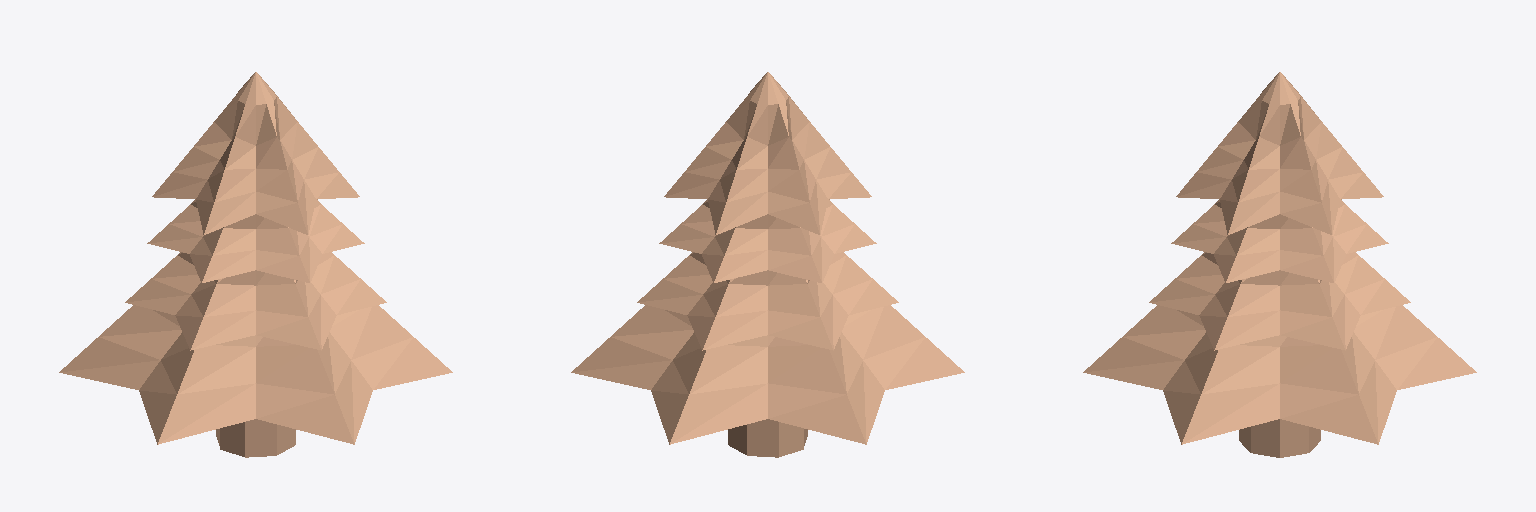
File: pineTree.obj
3 renders of one model, left to right at view 1: azimuth 30°, elevation 25°; view 2: azimuth 150°, elevation 25°; view 3: azimuth 270°, elevation 25°, orthographic.
Parts seen in each view (by area): view 1: Cone004; view 2: Cone004; view 3: Cone004.
Boxes of the visible parts, x1=… form: Cone004: x1=59, y1=72, x2=452, y2=457; Cone004: x1=571, y1=72, x2=964, y2=457; Cone004: x1=1083, y1=72, x2=1476, y2=457.
Size of the model in its own units: 20.83 by 24.89 by 24.05.